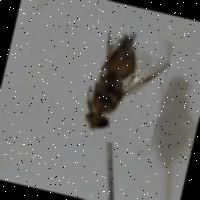Oriental-fruit-fly: (59, 20, 174, 150)
